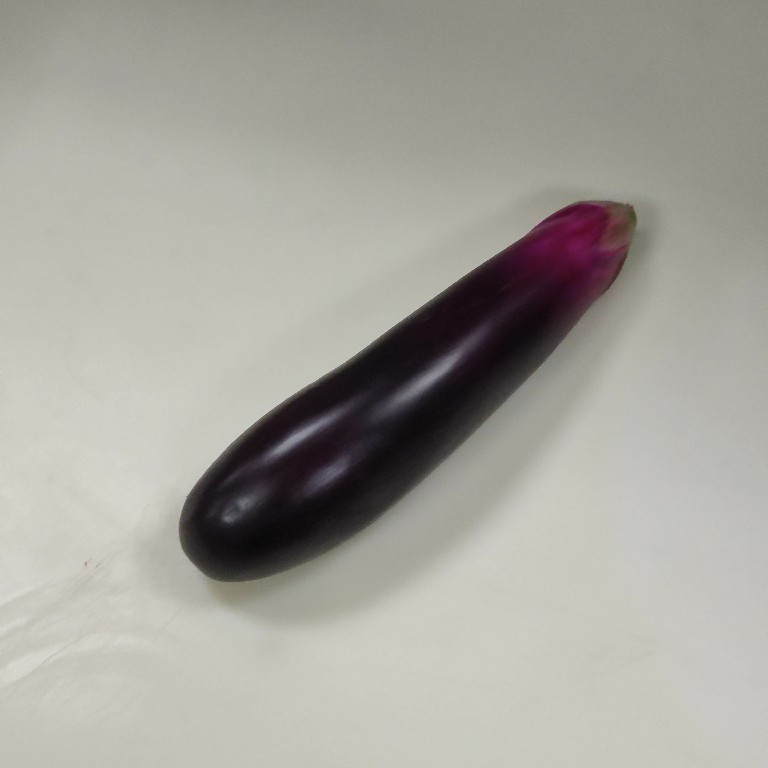fruit_eggplant: (176, 194, 643, 586)
